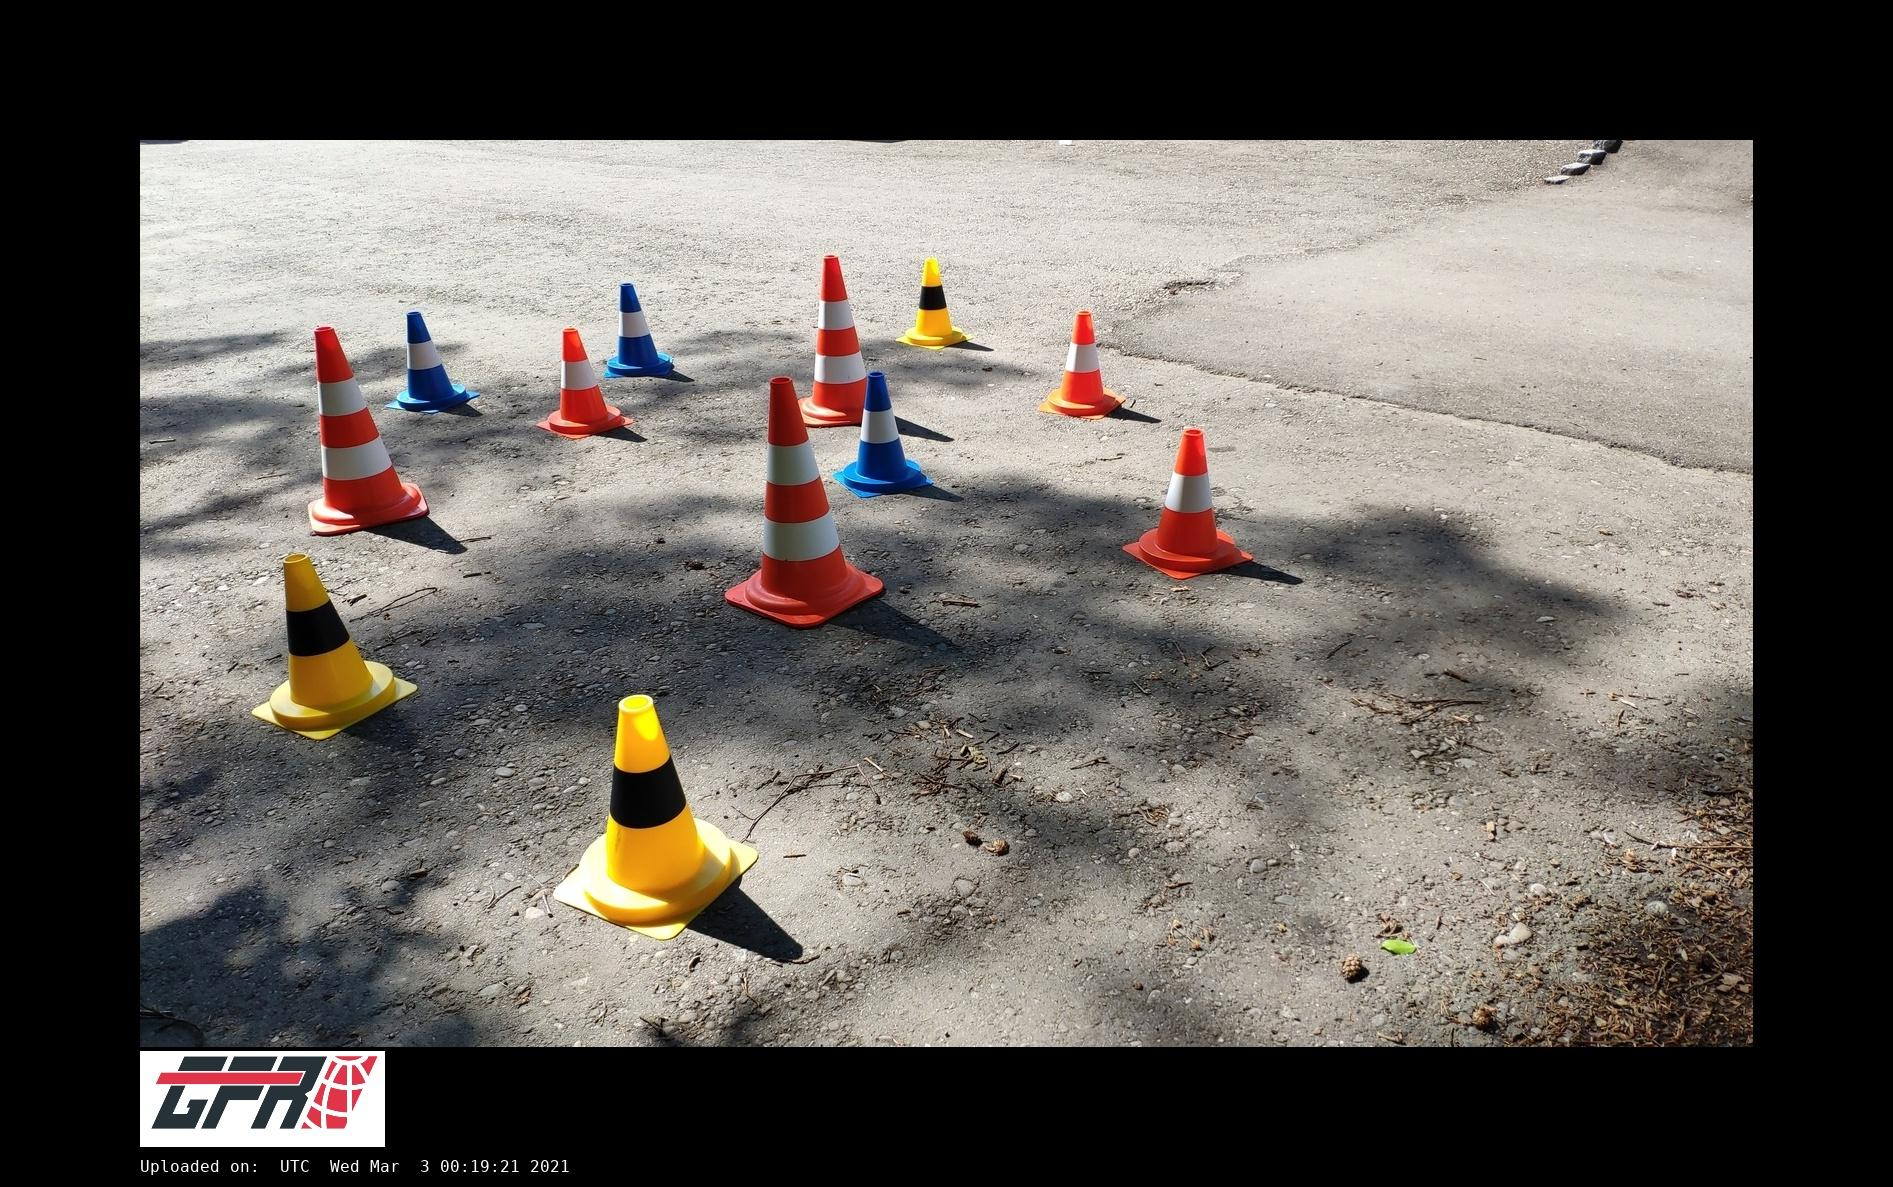blue_cone: (834, 373, 934, 498), (390, 312, 481, 413), (607, 283, 671, 375)
large_orange_cone: (724, 377, 882, 626), (308, 325, 426, 533), (800, 254, 867, 427)
orange_cone: (1123, 428, 1252, 578), (539, 330, 630, 438), (1037, 310, 1125, 418)
yellow_cone: (556, 695, 756, 939), (254, 554, 417, 741), (895, 258, 975, 349)
